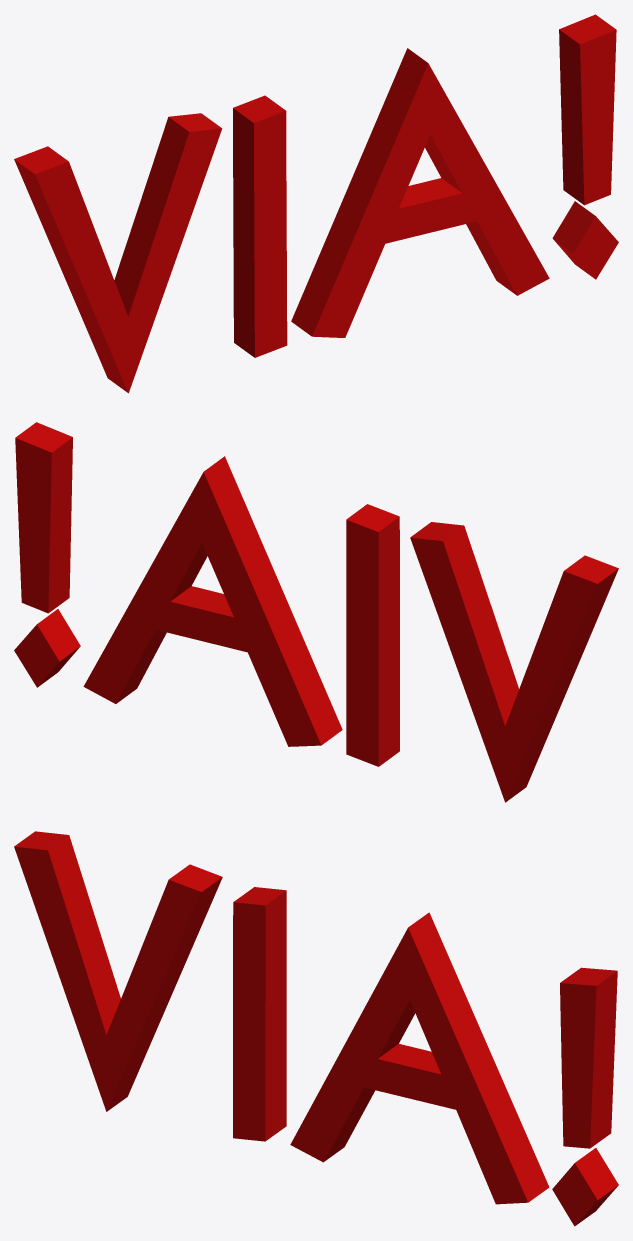
Rendered from Via.fbx.
The picture shows the model from 3 angles, top to bottom: view 1: azimuth 30°, elevation 25°; view 2: azimuth 150°, elevation 25°; view 3: azimuth 330°, elevation 25°; orthographic projection.
Visible parts, largest first — view 1: VIA_1; view 2: VIA_1; view 3: VIA_1.
Part boxes in pixels (x1,y1,x2,y2): VIA_1: (14,14,618,393); VIA_1: (14,422,618,802); VIA_1: (14,831,618,1226).
Size of the model in its own units: 21.86 by 9.21 by 1.45.
